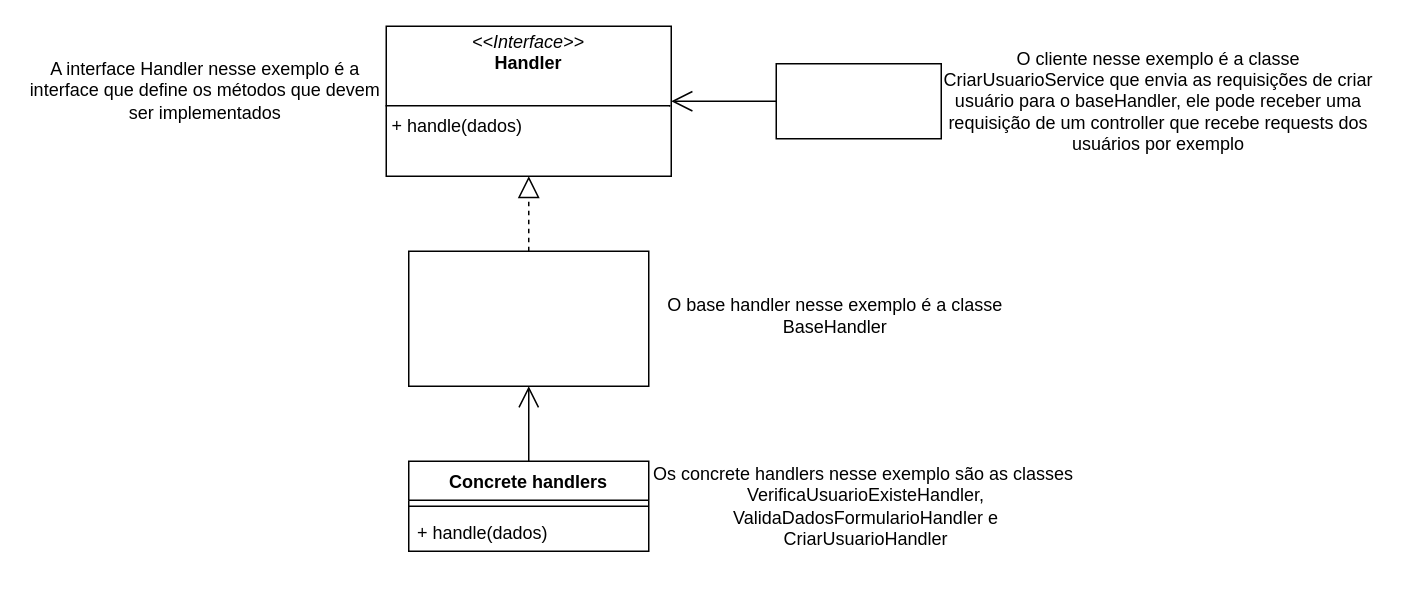
This 1401x596 diagram has some shape labels left out. Here are the shapes that lost their labels. From the top down, the centre of each, then its label:
At point (858, 100): "Client".
At point (528, 318): "BaseHandler - next + setNext(handler) + handle(dados)".
